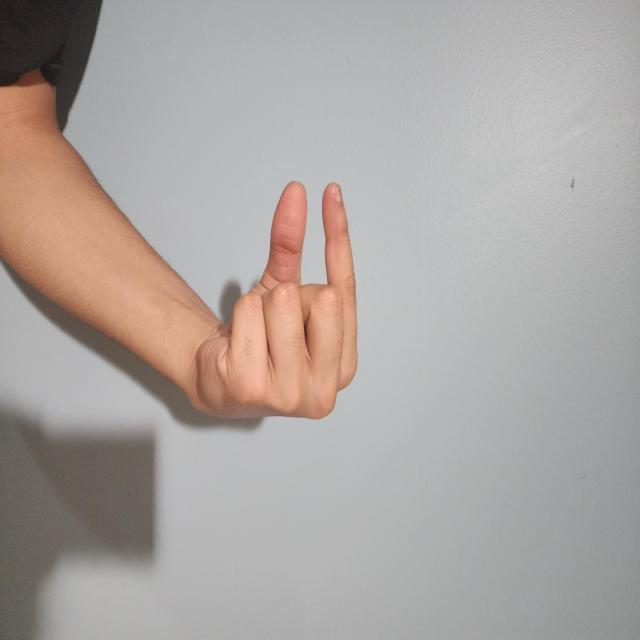Q: (292, 370, 477, 600)
